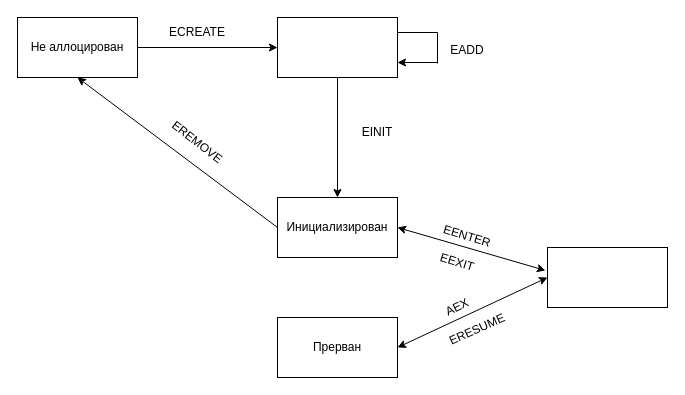
Some shapes in this 685 by 395 pixel diagram are drawn without their labels. The centre of each missing label's shape, as x and y in pixels:
Аллоцирован: the point at 337,47
Исполняется: the point at 607,277
